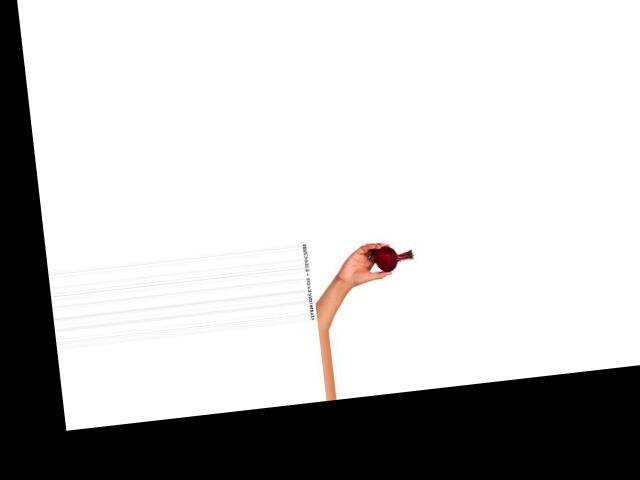beet: (373, 242, 414, 272)
